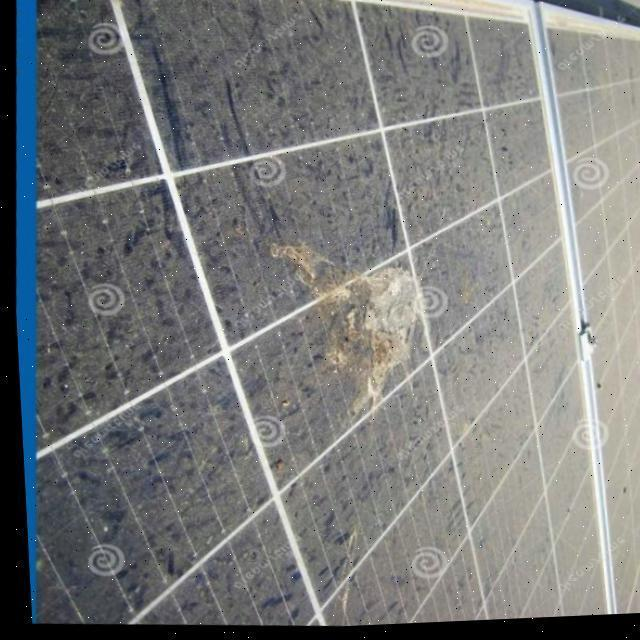Surface Contaminant: (0, 0, 640, 640), (517, 21, 640, 622)
